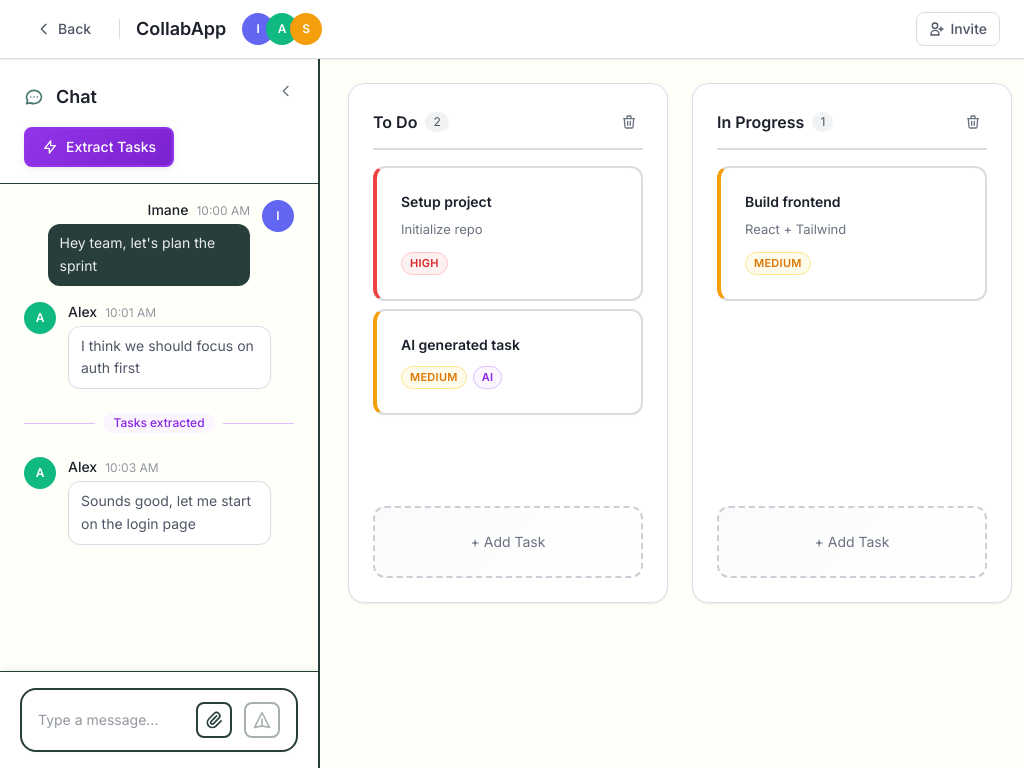
Test case: ProjectPage › opens invite modal
Click the button "Invite": (958, 29) [916, 12, 1000, 46]
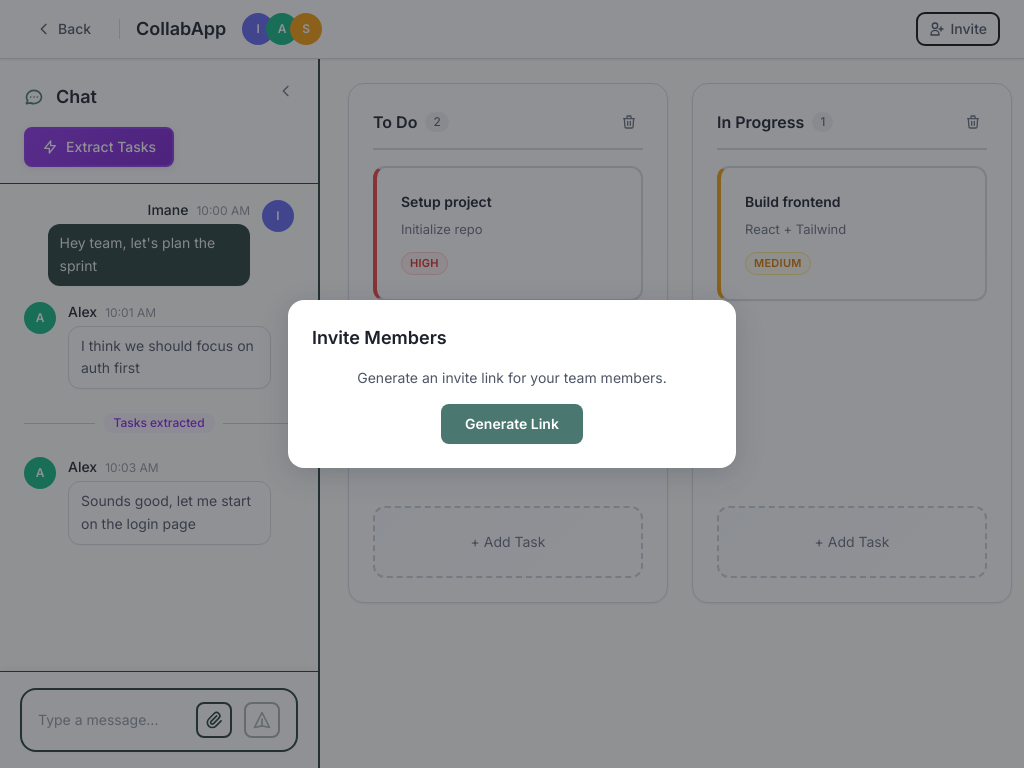
Check: the button "Generate Link" is shown, box [441, 404, 583, 444]
